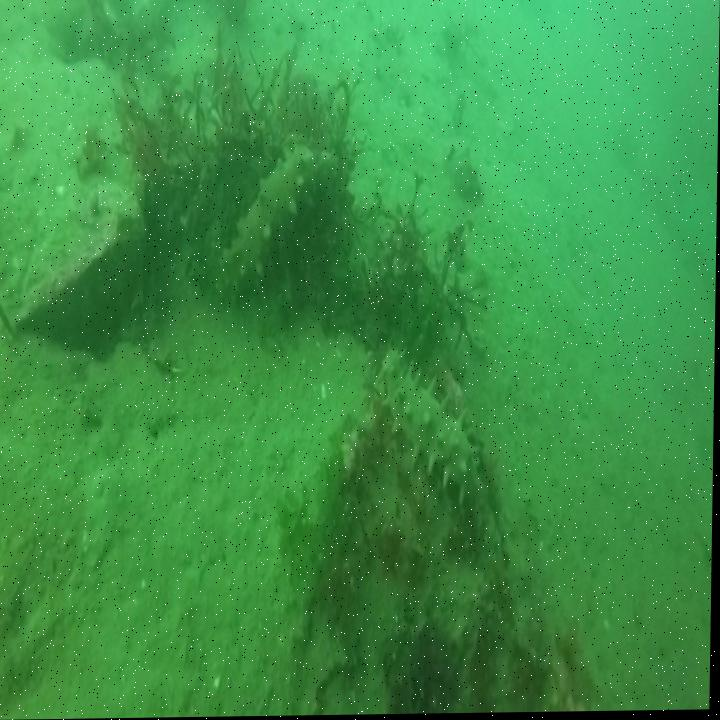holothurian: (372, 346, 487, 516), (221, 134, 323, 287)
